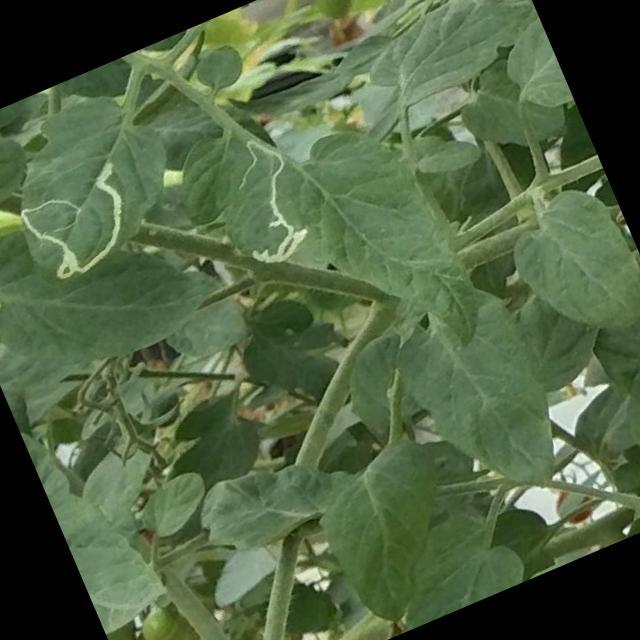Tomato target spot leaf: (0, 66, 207, 303), (182, 99, 346, 292)
